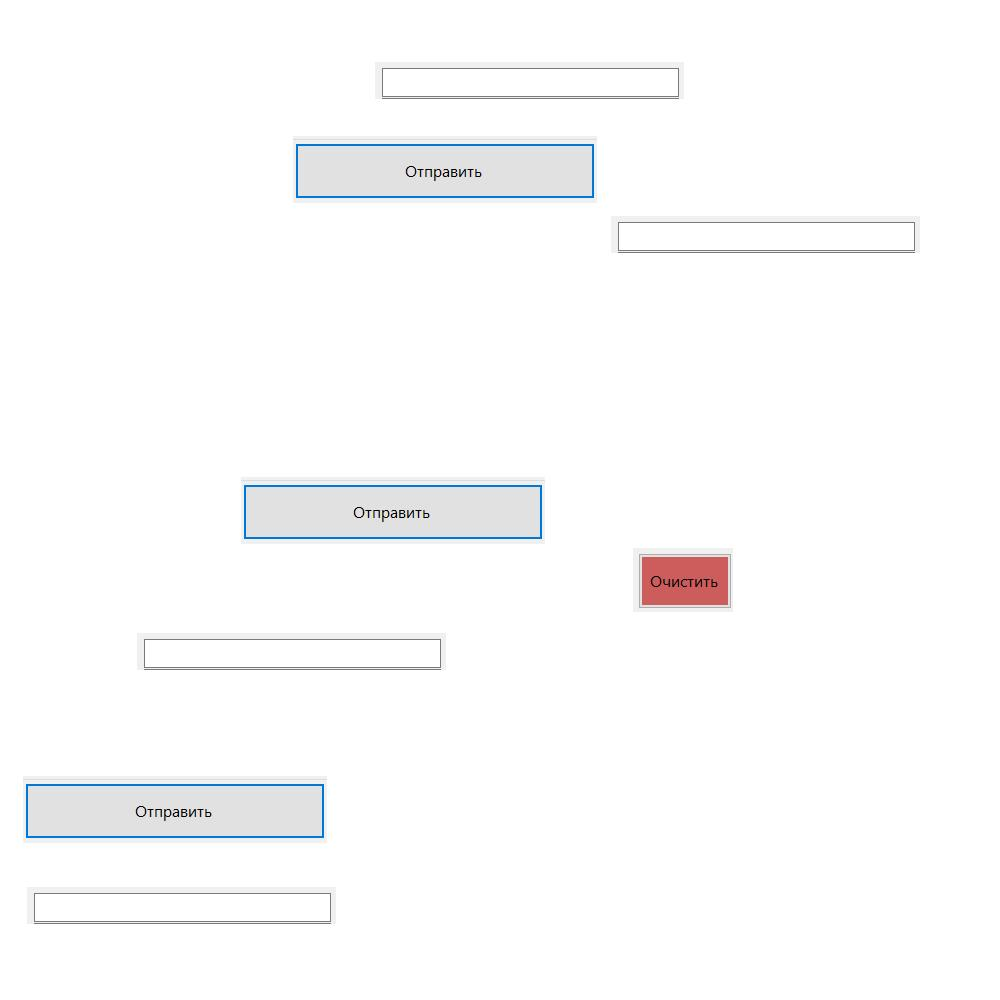Button: (23, 776, 327, 843), (241, 477, 545, 544), (293, 136, 597, 203), (633, 548, 733, 612)
EditText-: (611, 216, 920, 253), (137, 633, 446, 670), (27, 887, 336, 924), (375, 62, 684, 99)
